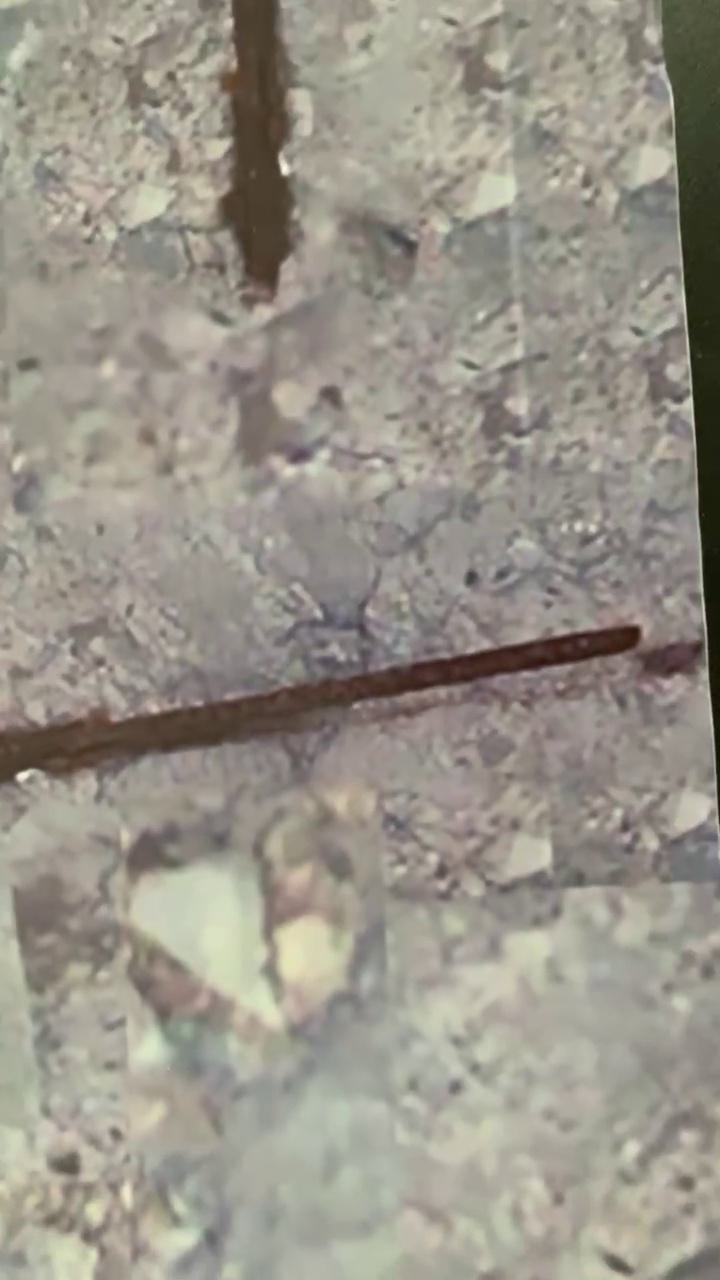Exposed reinforcement: (1, 625, 645, 779), (218, 1, 297, 302)
